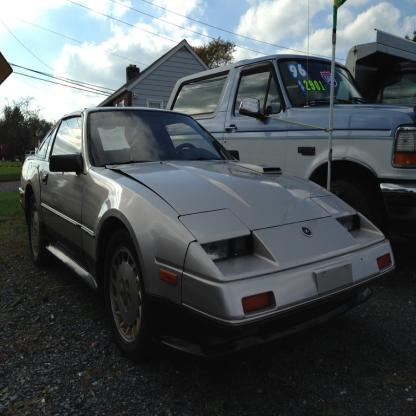Car: (19, 107, 395, 358), (167, 55, 416, 231)
